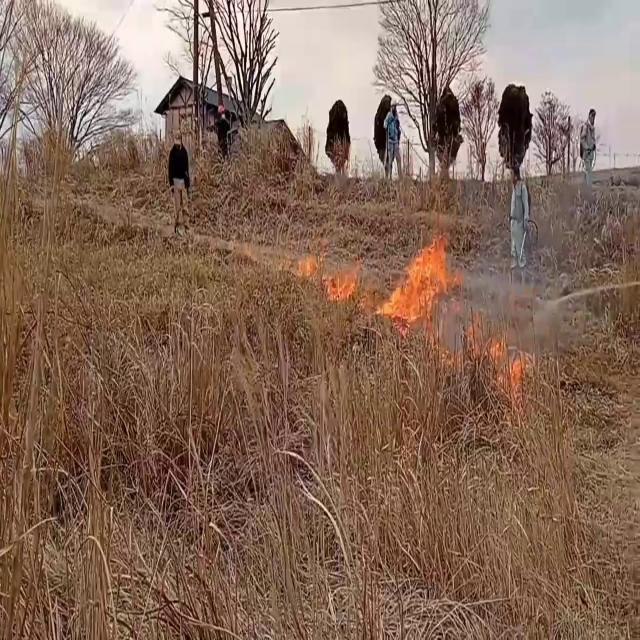Fire: (380, 230, 452, 342), (488, 305, 534, 407), (323, 247, 367, 313)
